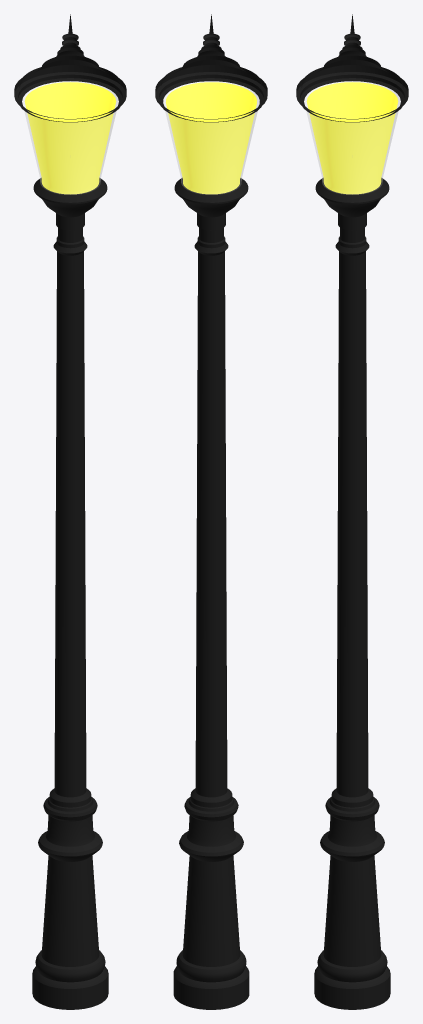
File: uploads_files_4426513_STRT_4.glb
The picture shows the model from 3 angles, left to right: view 1: azimuth 90°, elevation 25°; view 2: azimuth 150°, elevation 25°; view 3: azimuth 270°, elevation 25°; orthographic projection.
Parts seen in each view (by area): view 1: Circle.012, Circle.015, Circle.013; view 2: Circle.012, Circle.015, Circle.013; view 3: Circle.012, Circle.015, Circle.013.
Part boxes in pixels (box(x1,y1,x2,y2)): Circle.012: box(14, 14, 126, 1009); Circle.015: box(24, 82, 116, 194); Circle.013: box(22, 81, 118, 194); Circle.012: box(155, 14, 267, 1009); Circle.015: box(165, 82, 256, 194); Circle.013: box(163, 81, 259, 194); Circle.012: box(296, 14, 408, 1009); Circle.015: box(306, 82, 398, 194); Circle.013: box(304, 81, 400, 194).
Bounding box in the file's own units: 0.3919 × 3.76 × 0.3919.
